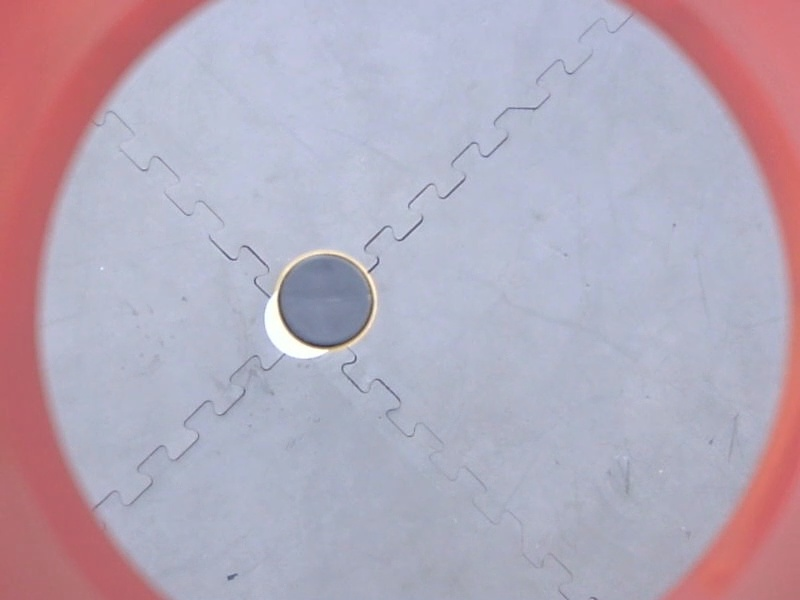tip: (265, 243, 388, 359)
